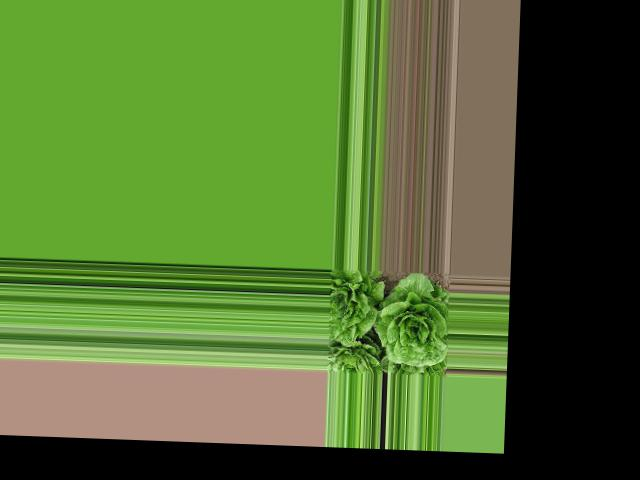lettuce: (326, 271, 378, 347)
